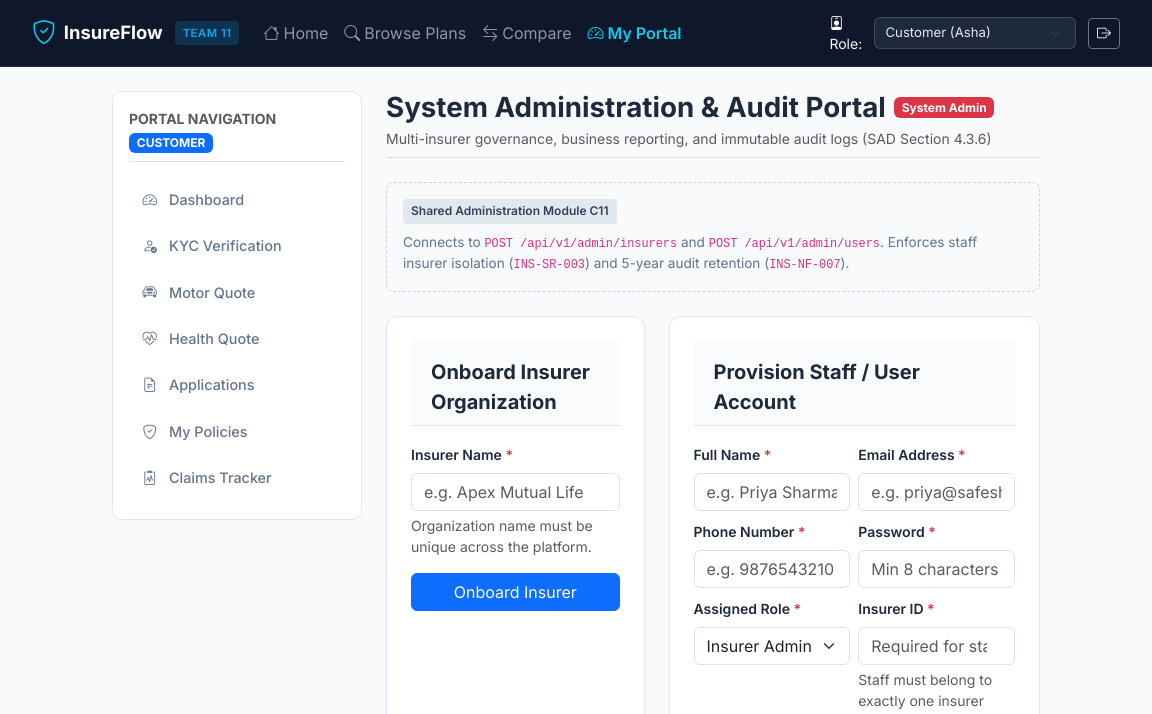
Test: SystemAdminDashboardView (P2-11 / SAD §4.3.6 / INS-SR-003) › successfully onboards an insurer when form is submitted
The image size is (1152, 714).
In the field labelled "Insurer Name *": (515, 492) [411,473,620,511], type "Apex Mutual Assurance"
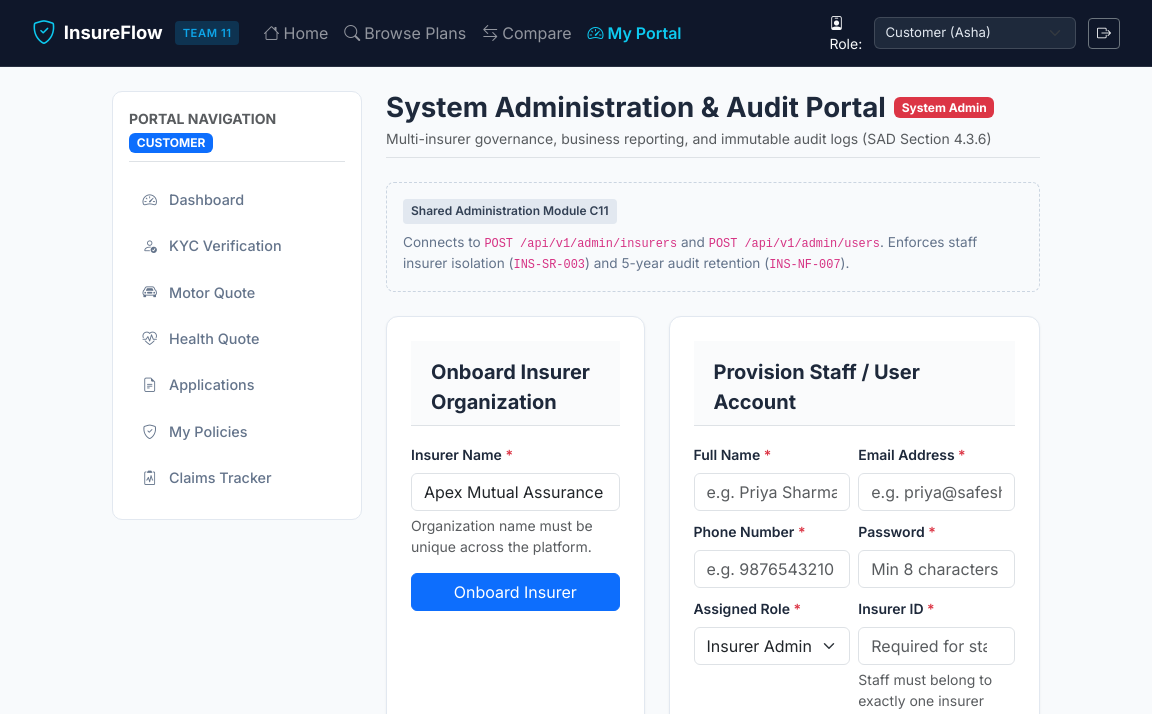
Click the button "Onboard Insurer": click(515, 592) [411,573,620,611]
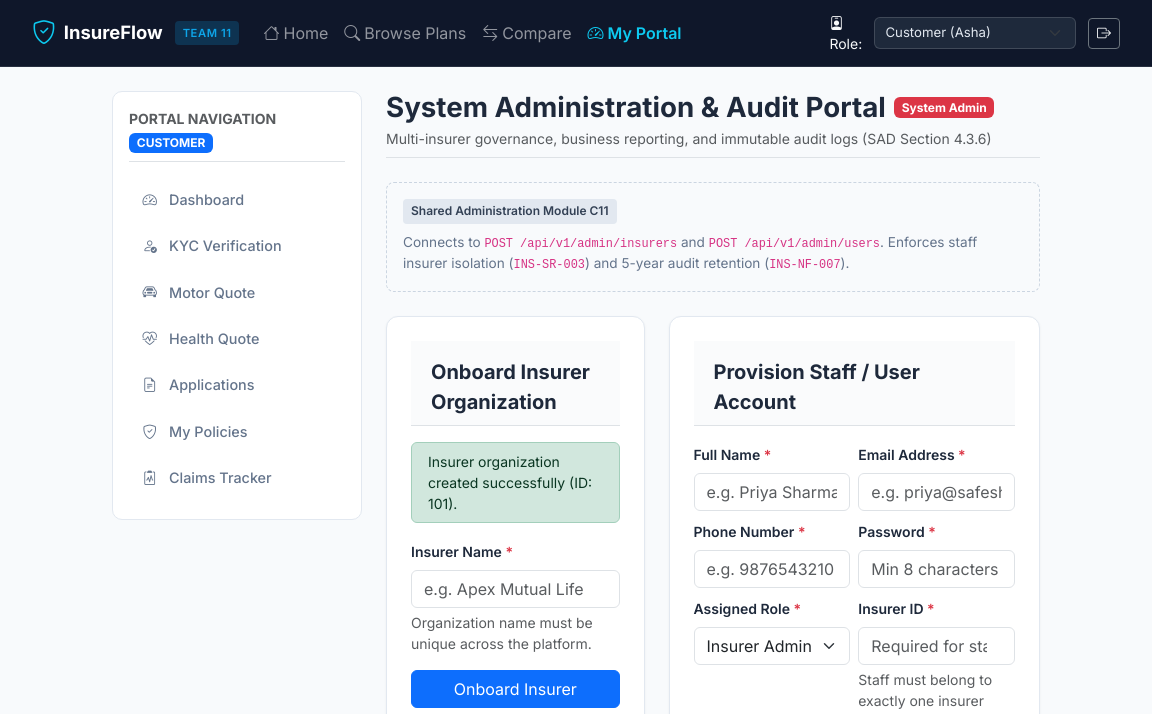
Result: the text "Insurer organization created successfully (ID: 101)." is shown at [411,442,620,523]
